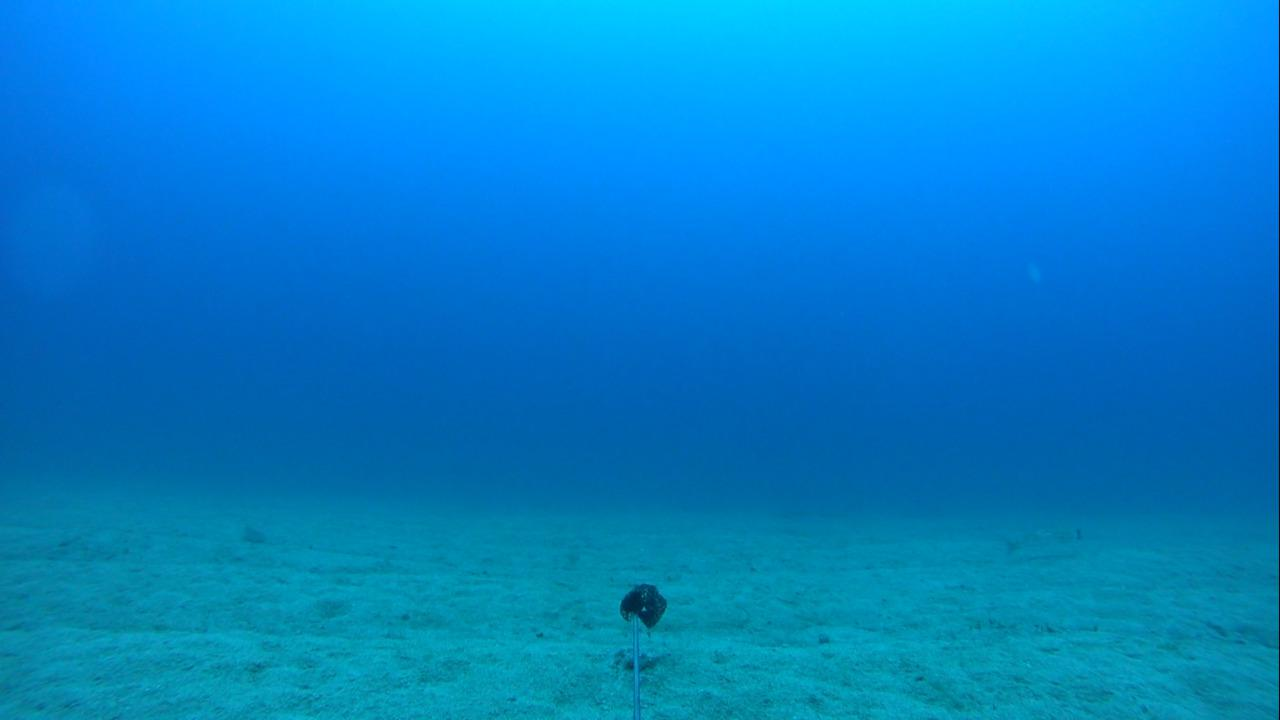dactylopterus: (986, 523, 1079, 560)
